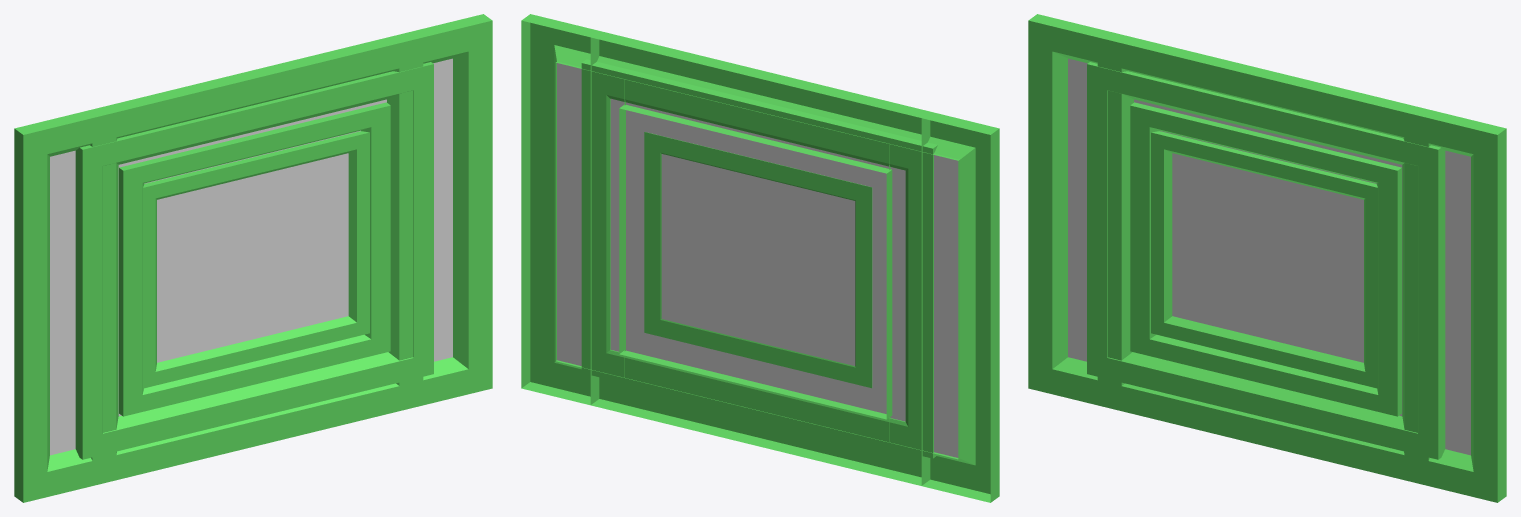
The model's file is huakuang.fbx.
3 views of the same model, side by side, from view 1: azimuth 30°, elevation 25°; view 2: azimuth 150°, elevation 25°; view 3: azimuth 330°, elevation 25° (orthographic).
Parts seen in each view (by area): view 1: 平面.008, 平面.007, 平面.002, 平面.003, 平面.005; view 2: 平面.008, 平面.002, 平面.007, 平面.003, 平面.005; view 3: 平面.008, 平面.007, 平面.002, 平面.003, 平面.005.
Part boxes in pixels (x1,y1,x2,y2): 平面.008: [14, 14, 492, 502]; 平面.007: [143, 131, 369, 388]; 平面.002: [75, 62, 433, 459]; 平面.003: [84, 31, 423, 485]; 平面.005: [119, 102, 390, 416]; 平面.008: [521, 14, 999, 502]; 平面.002: [581, 59, 937, 458]; 平面.007: [644, 132, 872, 388]; 平面.003: [590, 31, 930, 485]; 平面.005: [619, 104, 892, 419]; 平面.008: [1028, 14, 1506, 502]; 平面.007: [1151, 131, 1377, 388]; 平面.002: [1087, 62, 1445, 459]; 平面.003: [1097, 31, 1436, 485]; 平面.005: [1130, 102, 1401, 416].
Bounding box in the file's own units: 1.58 × 1.18 × 0.0715.
